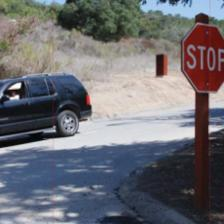Stop-sign: (178, 22, 224, 95)
